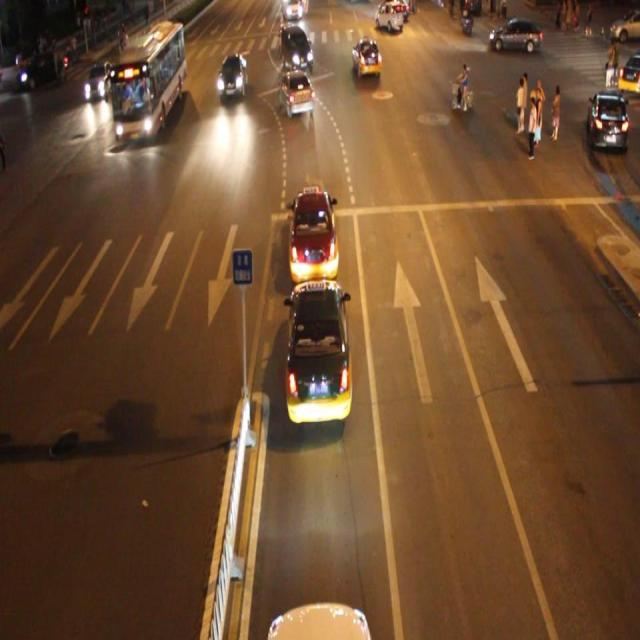car: (285, 276, 352, 420), (287, 188, 339, 284), (267, 599, 371, 640), (279, 70, 314, 117), (280, 28, 314, 75), (216, 53, 247, 101), (352, 38, 382, 77)
van: (111, 22, 185, 142)
